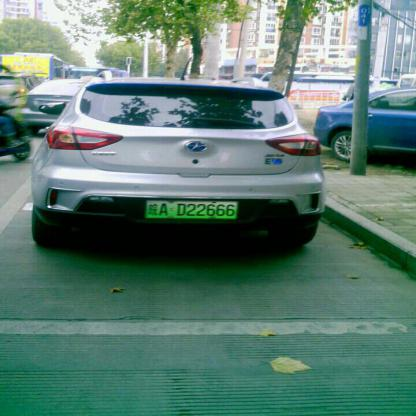lp: (145, 200, 237, 217)
